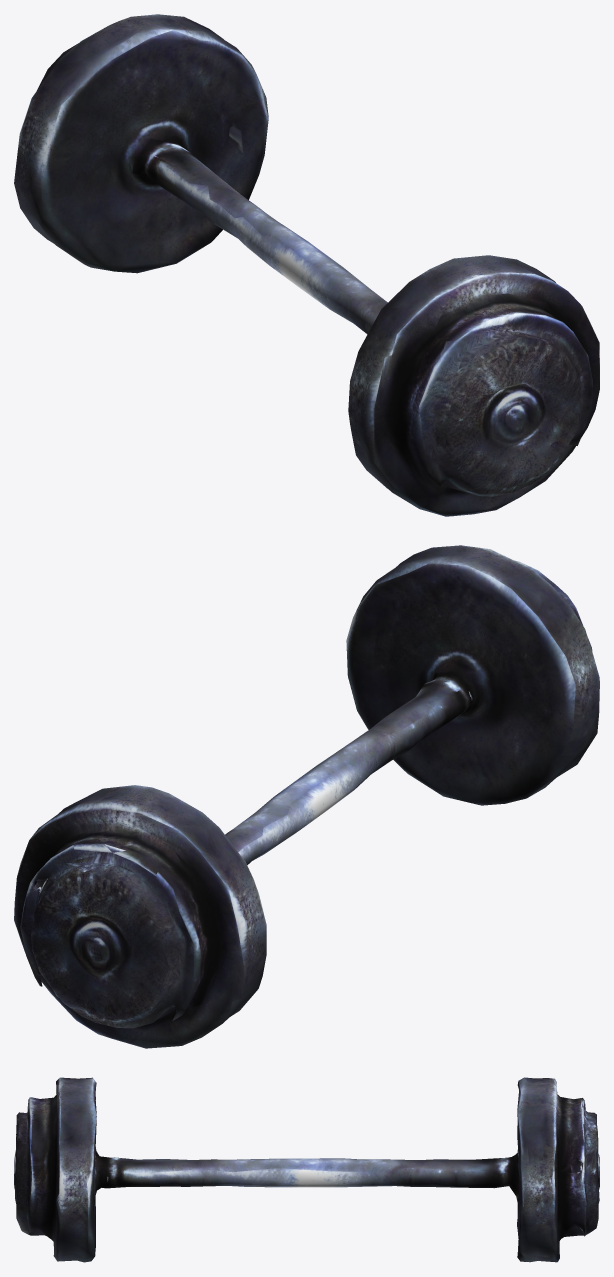
File: P_Dumbbell02.fbx
3 views of the same model, one above another, from view 1: azimuth 30°, elevation 25°; view 2: azimuth 150°, elevation 25°; view 3: azimuth 270°, elevation 25° (orthographic). The views are drawn at different scales.
Parts seen in each view (by area): view 1: mesh; view 2: mesh; view 3: mesh.
Boxes of the visible parts, left/top/right/bottom form: mesh: left=14, top=14, right=599, bottom=516; mesh: left=14, top=545, right=599, bottom=1048; mesh: left=14, top=1077, right=599, bottom=1262.
Size of the model in its own units: 38.41 by 37.31 by 118.
1 material, 1 textured.
